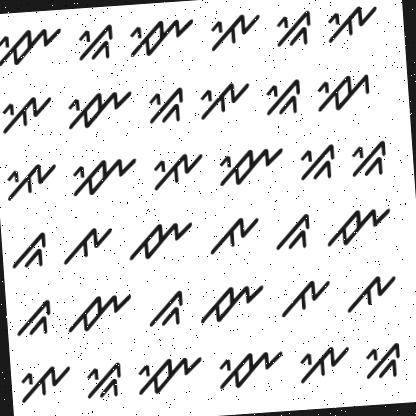a: (203, 210, 264, 263), (59, 222, 118, 270), (278, 277, 336, 324), (343, 269, 400, 316)
i: (203, 5, 264, 60), (146, 146, 206, 196), (292, 339, 352, 389), (192, 76, 254, 124), (13, 362, 76, 408), (323, 0, 384, 47), (0, 159, 59, 202), (0, 91, 54, 136)
ji: (312, 69, 378, 118)
ngga: (3, 224, 52, 280), (270, 207, 316, 258), (141, 287, 193, 332), (12, 296, 58, 344)
nggi: (69, 18, 119, 76), (80, 356, 128, 410), (264, 5, 318, 52), (142, 84, 191, 130), (292, 138, 340, 184), (362, 334, 406, 382), (262, 74, 305, 122), (349, 136, 393, 180)
nja: (320, 201, 397, 256), (62, 288, 137, 344), (126, 216, 198, 268), (197, 279, 269, 330)
nji: (62, 80, 138, 138), (122, 8, 197, 66), (208, 137, 287, 190), (210, 343, 290, 395), (130, 348, 206, 400), (0, 18, 65, 78), (65, 151, 140, 202)
